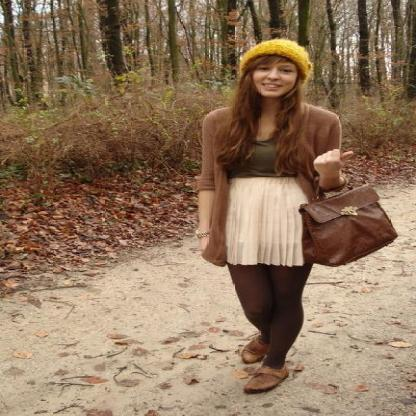bag: (298, 174, 398, 268)
hat: (247, 38, 313, 74)
jacket: (191, 99, 346, 266)
shoe: (212, 330, 302, 395)
skirt: (221, 153, 307, 266)
